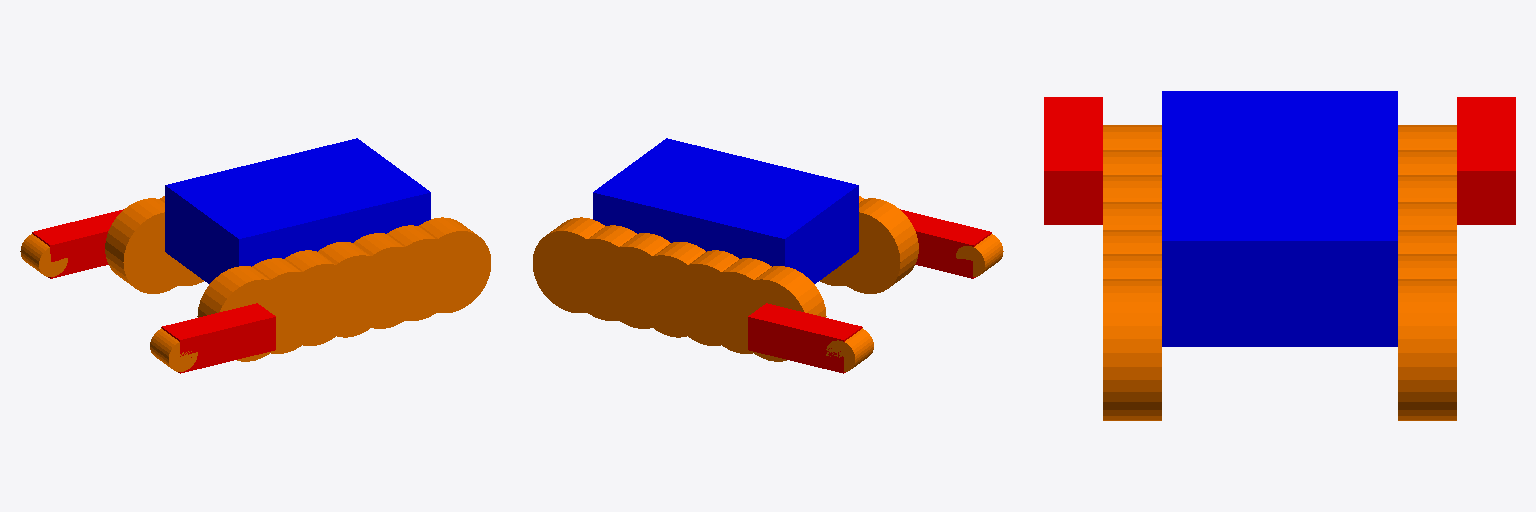
robot.urdf — tracked_flipper:
<?xml version="1.0" ?>
<!-- =================================================================================== -->
<!-- |    This document was autogenerated by xacro from urdf/tracked.xacro               | -->
<!-- |    EDITING THIS FILE BY HAND IS NOT RECOMMENDED                                 | -->
<!-- =================================================================================== -->
<robot name="tracked_flipper" xmlns:xacro="http://www.ros.org/wiki/xacro">
  <!-- <xacro:include filename="$(find pexod_description)/urdf/pexod_control.xacro" /> -->
  <!-- MATERIALS -->
  <material name="Blue">
    <color rgba="0 0 1 1"/>
  </material>
  <material name="Red">
    <color rgba="1 0 0 1"/>
  </material>
  <material name="Green">
    <color rgba="0 1 0 1"/>
  </material>
  <material name="Yellow">
    <color rgba="1 1 0 1"/>
  </material>
  <material name="Orange">
    <color rgba="1 0.5 0 1"/>
  </material>
  <material name="LightGrey">
    <color rgba="0.6 0.6 0.6 1.0"/>
  </material>
  <!-- END OF MATERIALS -->
  <!-- XACRO MACROS FOR VISUALS AND COLLISIONS -->
  <!-- END OF XACRO MACROS -->


  <!-- TORSO -->
  <link name="base_link">
    <visual>
      <origin rpy="0 0 0" xyz="0 0 0"/>
      <geometry>
        <box size="0.3 0.2 0.1"/>
      </geometry>
      <material name="Blue"/>
    </visual>
    <collision>
      <origin rpy="0 0 0" xyz="0 0 0"/>
      <geometry>
        <box size="0.3 0.2 0.1"/>
      </geometry>
    </collision>
    <inertial>
      <!-- CENTER OF MASS -->
      <origin rpy="0 0 0" xyz="0 0 0"/>
      <mass value="5"/>
      <!-- <mass value="1.031"/> -->
      <!-- box inertia: 1/12*m(y^2+z^2), ... -->
      <inertia ixx="0.0173333" ixy="0" ixz="0" iyy="0.02466667" iyz="0" izz="0.04066667"/>
    </inertial>
  </link>


  <!-- LINKS/JOINTS -->

  <!-- LEFT TRACK -->

  <joint name="body_track_left" type="fixed">
    <parent link="base_link"/>
    <child link="track_left"/>
    <origin rpy="0 0 0" xyz="0. -0.125 -0.05"/>
    <dynamics damping="0.0"/>
  </joint>

  <link name="track_left">
    <visual>
      <origin rpy="0 0 0" xyz="0 0 0"/> 
      <geometry>
        <box size="0.31 0.05 0.07"/>
      </geometry>
      <material name="Orange"/>
    </visual>

    <collision>
      <origin rpy="0 0 0" xyz="0 0 0"/> 
      <geometry>
        <box size="0.31 0.05 0.07"/>
      </geometry>
    </collision>

    <inertial>
      <!-- CENTER OF MASS -->
      <origin rpy="0 0 0" xyz="0 0 0"/>
      <mass value="1."/>
      <!-- box inertia: 1/12*m(y^2+z^2), ... -->
      <inertia ixx="0.00061667" ixy="0" ixz="0" iyy="0.0420833" iyz="0" izz="0.00821667"/>
    </inertial>
  </link>


  <joint name="body_track_left_front" type="fixed">
    <parent link="track_left"/>
    <child link="track_left_front"/>
    <origin rpy="0 0 0" xyz="-0.155 0 0"/>
    <dynamics damping="0.0"/>
  </joint>

  <link name="track_left_front">
    <visual>
      <origin rpy="1.5708 0 0" xyz="0 0 0"/> 
      <geometry>
        <cylinder length="0.05" radius="0.033"/>
      </geometry>
      <material name="Orange"/>
    </visual>

    <collision>
      <origin rpy="1.5708 0 0" xyz="0 0 0"/> 
      <geometry>
        <cylinder length="0.05" radius="0.033"/>
      </geometry>
    </collision>

    <inertial>
      <origin rpy="1.5708 0 0" xyz="0.0 0.0 0.0"/>
      <mass value="1."/>
      <inertia ixx="0.000497" ixy="0" ixz="0" iyy="0.000497" iyz="0" izz="0.000578"/>
    </inertial>
  </link>

  <!-- WHEELS -->

  <joint name="body_track_left_wheel_1" type="continuous">
    <parent link="track_left"/>
    <child link="track_left_wheel_1"/>
    <limit effort="30.0" lower="-1.57079632679" upper="1.57079632679" velocity="30.0"/>
    <origin rpy="0 0 0" xyz="-0.155 0 0"/>
    <axis xyz="0 1 0"/>
    <dynamics damping="0.0"/>
  </joint>

  <link name="track_left_wheel_1">
    <visual>
      <origin rpy="1.5708 0 0" xyz="0 0 0"/> 
      <geometry>
        <cylinder length="0.05" radius="0.06"/>
      </geometry>
      <material name="Orange"/>
    </visual>

    <collision>
      <origin rpy="1.5708 0 0" xyz="0 0 0"/> 
      <geometry>
        <cylinder length="0.05" radius="0.06"/>
      </geometry>
    </collision>

    <inertial>
      <origin rpy="1.5708 0 0" xyz="0.0 0.0 0.0"/>
      <mass value="0.1"/>
      <inertia ixx="0.000497" ixy="0" ixz="0" iyy="0.000497" iyz="0" izz="0.000578"/>
    </inertial>
  </link>

  <joint name="body_track_left_wheel_2" type="continuous">
    <parent link="track_left"/>
    <child link="track_left_wheel_2"/>
    <limit effort="30.0" lower="-1.57079632679" upper="1.57079632679" velocity="30.0"/>
    <origin rpy="0 0 0" xyz="-0.105 0 0"/>
    <axis xyz="0 1 0"/>
    <dynamics damping="0.0"/>
  </joint>

  <link name="track_left_wheel_2">
    <visual>
      <origin rpy="1.5708 0 0" xyz="0 0 0"/> 
      <geometry>
        <cylinder length="0.05" radius="0.06"/>
      </geometry>
      <material name="Orange"/>
    </visual>

    <collision>
      <origin rpy="1.5708 0 0" xyz="0 0 0"/> 
      <geometry>
        <cylinder length="0.05" radius="0.06"/>
      </geometry>
    </collision>

    <inertial>
      <origin rpy="1.5708 0 0" xyz="0.0 0.0 0.0"/>
      <mass value="0.1"/>
      <inertia ixx="0.000497" ixy="0" ixz="0" iyy="0.000497" iyz="0" izz="0.000578"/>
    </inertial>
  </link>

  <joint name="body_track_left_wheel_3" type="continuous">
    <parent link="track_left"/>
    <child link="track_left_wheel_3"/>
    <limit effort="30.0" lower="-1.57079632679" upper="1.57079632679" velocity="30.0"/>
    <origin rpy="0 0 0" xyz="-0.055 0 0"/>
    <axis xyz="0 1 0"/>
    <dynamics damping="0.0"/>
  </joint>

  <link name="track_left_wheel_3">
    <visual>
      <origin rpy="1.5708 0 0" xyz="0 0 0"/> 
      <geometry>
        <cylinder length="0.05" radius="0.06"/>
      </geometry>
      <material name="Orange"/>
    </visual>

    <collision>
      <origin rpy="1.5708 0 0" xyz="0 0 0"/> 
      <geometry>
        <cylinder length="0.05" radius="0.06"/>
      </geometry>
    </collision>

    <inertial>
      <origin rpy="1.5708 0 0" xyz="0.0 0.0 0.0"/>
      <mass value="0.1"/>
      <inertia ixx="0.000497" ixy="0" ixz="0" iyy="0.000497" iyz="0" izz="0.000578"/>
    </inertial>
  </link>

  <joint name="body_track_left_wheel_4" type="continuous">
    <parent link="track_left"/>
    <child link="track_left_wheel_4"/>
    <limit effort="30.0" lower="-1.57079632679" upper="1.57079632679" velocity="30.0"/>
    <origin rpy="0 0 0" xyz="-0.0 0 0"/>
    <axis xyz="0 1 0"/>
    <dynamics damping="0.0"/>
  </joint>

  <link name="track_left_wheel_4">
    <visual>
      <origin rpy="1.5708 0 0" xyz="0 0 0"/> 
      <geometry>
        <cylinder length="0.05" radius="0.06"/>
      </geometry>
      <material name="Orange"/>
    </visual>

    <collision>
      <origin rpy="1.5708 0 0" xyz="0 0 0"/> 
      <geometry>
        <cylinder length="0.05" radius="0.06"/>
      </geometry>
    </collision>

    <inertial>
      <origin rpy="1.5708 0 0" xyz="0.0 0.0 0.0"/>
      <mass value="0.1"/>
      <inertia ixx="0.000497" ixy="0" ixz="0" iyy="0.000497" iyz="0" izz="0.000578"/>
    </inertial>
  </link>

  <joint name="body_track_left_wheel_5" type="continuous">
    <parent link="track_left"/>
    <child link="track_left_wheel_5"/>
    <limit effort="30.0" lower="-1.57079632679" upper="1.57079632679" velocity="30.0"/>
    <origin rpy="0 0 0" xyz="0.055 0 0"/>
    <axis xyz="0 1 0"/>
    <dynamics damping="0.0"/>
  </joint>

  <link name="track_left_wheel_5">
    <visual>
      <origin rpy="1.5708 0 0" xyz="0 0 0"/> 
      <geometry>
        <cylinder length="0.05" radius="0.06"/>
      </geometry>
      <material name="Orange"/>
    </visual>

    <collision>
      <origin rpy="1.5708 0 0" xyz="0 0 0"/> 
      <geometry>
        <cylinder length="0.05" radius="0.06"/>
      </geometry>
    </collision>

    <inertial>
      <origin rpy="1.5708 0 0" xyz="0.0 0.0 0.0"/>
      <mass value="0.1"/>
      <inertia ixx="0.000497" ixy="0" ixz="0" iyy="0.000497" iyz="0" izz="0.000578"/>
    </inertial>
  </link>

  <joint name="body_track_left_wheel_6" type="continuous">
    <parent link="track_left"/>
    <child link="track_left_wheel_6"/>
    <limit effort="30.0" lower="-1.57079632679" upper="1.57079632679" velocity="30.0"/>
    <origin rpy="0 0 0" xyz="0.105 0 0"/>
    <axis xyz="0 1 0"/>
    <dynamics damping="0.0"/>
  </joint>

  <link name="track_left_wheel_6">
    <visual>
      <origin rpy="1.5708 0 0" xyz="0 0 0"/> 
      <geometry>
        <cylinder length="0.05" radius="0.06"/>
      </geometry>
      <material name="Orange"/>
    </visual>

    <collision>
      <origin rpy="1.5708 0 0" xyz="0 0 0"/> 
      <geometry>
        <cylinder length="0.05" radius="0.06"/>
      </geometry>
    </collision>

    <inertial>
      <origin rpy="1.5708 0 0" xyz="0.0 0.0 0.0"/>
      <mass value="0.1"/>
      <inertia ixx="0.000497" ixy="0" ixz="0" iyy="0.000497" iyz="0" izz="0.000578"/>
    </inertial>
  </link>

  <joint name="body_track_left_wheel_7" type="continuous">
    <parent link="track_left"/>
    <child link="track_left_wheel_7"/>
    <limit effort="30.0" lower="-1.57079632679" upper="1.57079632679" velocity="30.0"/>
    <origin rpy="0 0 0" xyz="0.155 0 0"/>
    <axis xyz="0 1 0"/>
    <dynamics damping="0.0"/>
  </joint>

  <link name="track_left_wheel_7">
    <visual>
      <origin rpy="1.5708 0 0" xyz="0 0 0"/> 
      <geometry>
        <cylinder length="0.05" radius="0.06"/>
      </geometry>
      <material name="Orange"/>
    </visual>

    <collision>
      <origin rpy="1.5708 0 0" xyz="0 0 0"/> 
      <geometry>
        <cylinder length="0.05" radius="0.06"/>
      </geometry>
    </collision>

    <inertial>
      <origin rpy="1.5708 0 0" xyz="0.0 0.0 0.0"/>
      <mass value="0.1"/>
      <inertia ixx="0.000497" ixy="0" ixz="0" iyy="0.000497" iyz="0" izz="0.000578"/>
    </inertial>
  </link>

  <joint name="body_track_left_flipper" type="revolute">
    <parent link="track_left_front"/>
    <child link="track_left_flipper"/>
    <limit effort="30.0" lower="-1.57079632679" upper="1.57079632679" velocity="7.0"/>
    <origin rpy="0 3.14 0" xyz="0 -0.05 0"/>
    <axis xyz="0 1 0"/>
    <dynamics damping="0.0"/>
  </joint>

  <link name="track_left_flipper">
    <visual>
      <origin rpy="0 0 0" xyz="0.07 0. 0."/> 
      <geometry>
        <box size="0.15 0.05 0.05"/>
      </geometry>
      <material name="Red"/>
    </visual>

    <collision>
      <origin rpy="0 0 0" xyz="0.07 0. 0."/> 
      <geometry>
        <box size="0.15 0.05 0.05"/>
      </geometry>
    </collision>

    <inertial>
      <!-- CENTER OF MASS -->
      <origin rpy="0 0 0" xyz="0.07 0. 0."/> 
      <mass value=".5"/>
      <!-- box inertia: 1/12*m(y^2+z^2), ... -->
      <inertia ixx="0.00020833" ixy="0" ixz="0" iyy="0.001770833" iyz="0" izz="0.001770833"/>
    </inertial>
  </link>


  <joint name="body_track_left_flipper_end" type="fixed">
    <parent link="track_left_flipper"/>
    <child link="track_left_flipper_end"/>
  </joint>

  <link name="track_left_flipper_end">
    <visual>
      <origin rpy="1.5708 0 0" xyz="0.14 0. 0."/> 
      <geometry>
        <cylinder length="0.05" radius="0.023"/>
      </geometry>
      <material name="Orange"/>
    </visual>

    <collision>
      <origin rpy="1.5708 0 0" xyz="0.14 0. 0."/> 
      <geometry>
        <cylinder length="0.05" radius="0.023"/>
      </geometry>
    </collision>

    <inertial>
      <origin rpy="1.5708 0 0" xyz="0.14 0. 0."/> 
      <mass value=".1"/>
      <inertia ixx="0.0000497" ixy="0" ixz="0" iyy="0.0000497" iyz="0" izz="0.0000578"/>
    </inertial>
  </link>

  <joint name="body_track_left_back" type="fixed">
    <parent link="track_left"/>
    <child link="track_left_back"/>
    <origin rpy="0 0 0" xyz="0.155 0 0"/>
    <axis xyz="0 1 0"/>
    <dynamics damping="0.0"/>
  </joint>

  <link name="track_left_back">
    <visual>
      <origin rpy="1.5708 0 0" xyz="0 0 0"/> 
      <geometry>
        <cylinder length="0.05" radius="0.033"/>
      </geometry>
      <material name="Orange"/>
    </visual>

    <collision>
      <origin rpy="1.5708 0 0" xyz="0 0 0"/> 
      <geometry>
        <cylinder length="0.05" radius="0.033"/>
      </geometry>
    </collision>

    <inertial>
      <origin rpy="1.5708 0 0" xyz="0 0 0"/> 
      <mass value="1."/>
      <inertia ixx="0.000497" ixy="0" ixz="0" iyy="0.000497" iyz="0" izz="0.000578"/>
    </inertial>
  </link>

  <!-- RIGHT TRACK -->

  <joint name="body_track_right" type="fixed">
    <parent link="base_link"/>
    <child link="track_right"/>
     <origin rpy="0 0 0" xyz="0. 0.125 -0.05"/>
    <dynamics damping="0.0"/>
  </joint>

  <link name="track_right">
    <visual>
      <origin rpy="0 0 0" xyz="0. 0 0"/> 
      <geometry>
        <box size="0.31 0.05 0.07"/>
      </geometry>
      <material name="Orange"/>
    </visual>

    <collision>
      <origin rpy="0 0 0" xyz="0. 0 0"/> 
      <geometry>
        <box size="0.31 0.05 0.07"/>
      </geometry>
    </collision>

    <inertial>
      <!-- CENTER OF MASS -->
      <origin rpy="0 0 0" xyz="0. 0 0"/> 
      <mass value="1."/>
      <!-- box inertia: 1/12*m(y^2+z^2), ... -->
      <inertia ixx="0.00061667" ixy="0" ixz="0" iyy="0.0420833" iyz="0" izz="0.00821667"/>
    </inertial>
  </link>

  
  <joint name="body_track_right_front" type="fixed">
    <parent link="track_right"/>
    <child link="track_right_front"/>
    <origin rpy="0 0 0" xyz="-0.155 0 0"/>
    <dynamics damping="0.0"/>
  </joint>

  <link name="track_right_front">
    <visual>
      <origin rpy="1.5708 0 0" xyz="0 0 0"/> 
      <geometry>
        <cylinder length="0.05" radius="0.033"/>
      </geometry>
      <material name="Orange"/>
    </visual>

    <collision>
      <origin rpy="1.5708 0 0" xyz="0 0 0"/> 
      <geometry>
        <cylinder length="0.05" radius="0.033"/>
      </geometry>
    </collision>

    <inertial>
      <origin rpy="1.5708 0 0" xyz="0 0 0"/> 
      <mass value="1."/>
      <inertia ixx="0.000497" ixy="0" ixz="0" iyy="0.000497" iyz="0" izz="0.000578"/>
    </inertial>
  </link>

  <joint name="body_track_right_flipper" type="revolute">
    <parent link="track_right_front"/>
    <child link="track_right_flipper"/>
    <limit effort="30.0" lower="-1.57079632679" upper="1.57079632679" velocity="7.0"/>
    <origin rpy="0 3.14 0" xyz="0 0.05 0"/>
    <axis xyz="0 1 0"/>
    <dynamics damping="0.0"/>
  </joint>

  <link name="track_right_flipper">
    <visual>
      <origin rpy="0 0 0" xyz="0.07 0. 0."/> 
      <geometry>
        <box size="0.15 0.05 0.05"/>
      </geometry>
      <material name="Red"/>
    </visual>

    <collision>
      <origin rpy="0 0 0" xyz="0.07 0. 0."/> 
      <geometry>
        <box size="0.15 0.05 0.05"/>
      </geometry>
    </collision>

    <inertial>
      <!-- CENTER OF MASS -->
      <origin rpy="0 0 0" xyz="0.07 0. 0."/> 
      <mass value=".5"/>
      <!-- box inertia: 1/12*m(y^2+z^2), ... -->
      <inertia ixx="0.00020833" ixy="0" ixz="0" iyy="0.001770833" iyz="0" izz="0.001770833"/>
    </inertial>
  </link>

  <joint name="body_track_right_flipper_end" type="fixed">
    <parent link="track_right_flipper"/>
    <child link="track_right_flipper_end"/>
  </joint>

  <link name="track_right_flipper_end">
    <visual>
      <origin rpy="1.5708 0 0" xyz="0.14 0. 0."/> 
      <geometry>
        <cylinder length="0.05" radius="0.023"/>
      </geometry>
      <material name="Orange"/>
    </visual>

    <collision>
      <origin rpy="1.5708 0 0" xyz="0.14 0. 0."/> 
      <geometry>
        <cylinder length="0.05" radius="0.023"/>
      </geometry>
    </collision>

    <inertial>
      <origin rpy="1.5708 0 0" xyz="0.14 0. 0."/> 
      <mass value=".1"/>
      <inertia ixx="0.0000497" ixy="0" ixz="0" iyy="0.0000497" iyz="0" izz="0.0000578"/>
    </inertial>
  </link>


  <joint name="body_track_right_back" type="fixed">
    <parent link="track_right"/>
    <child link="track_right_back"/>
    <origin rpy="0 0 0" xyz="0.155 0 0"/>
    <dynamics damping="0.0"/>
  </joint>

  <link name="track_right_back">
    <visual>
      <origin rpy="1.5708 0 0" xyz="0 0 0"/> 
      <geometry>
        <cylinder length="0.05" radius="0.033"/>
      </geometry>
      <material name="Orange"/>
    </visual>

    <collision>
      <origin rpy="1.5708 0 0" xyz="0 0 0"/> 
      <geometry>
        <cylinder length="0.05" radius="0.033"/>
      </geometry>
    </collision>

    <inertial>
      <origin rpy="1.5708 0 0" xyz="0 0 0"/> 
      <mass value="1."/>
      <inertia ixx="0.000497" ixy="0" ixz="0" iyy="0.000497" iyz="0" izz="0.000578"/>
    </inertial>
  </link>

  <!-- Right Wheels -->

    <joint name="body_track_right_wheel_1" type="continuous">
    <parent link="track_right"/>
    <child link="track_right_wheel_1"/>
    <limit effort="30.0" lower="-1.57079632679" upper="1.57079632679" velocity="30.0"/>
    <origin rpy="0 0 0" xyz="-0.155 0 0"/>
    <axis xyz="0 1 0"/>
    <dynamics damping="0.0"/>
  </joint>

  <link name="track_right_wheel_1">
    <visual>
      <origin rpy="1.5708 0 0" xyz="0 0 0"/> 
      <geometry>
        <cylinder length="0.05" radius="0.06"/>
      </geometry>
      <material name="Orange"/>
    </visual>

    <collision>
      <origin rpy="1.5708 0 0" xyz="0 0 0"/> 
      <geometry>
        <cylinder length="0.05" radius="0.06"/>
      </geometry>
    </collision>

    <inertial>
      <origin rpy="1.5708 0 0" xyz="0.0 0.0 0.0"/>
      <mass value="0.1"/>
      <inertia ixx="0.000497" ixy="0" ixz="0" iyy="0.000497" iyz="0" izz="0.000578"/>
    </inertial>
  </link>

  <joint name="body_track_right_wheel_2" type="continuous">
    <parent link="track_right"/>
    <child link="track_right_wheel_2"/>
    <limit effort="30.0" lower="-1.57079632679" upper="1.57079632679" velocity="30.0"/>
    <origin rpy="0 0 0" xyz="-0.105 0 0"/>
    <axis xyz="0 1 0"/>
    <dynamics damping="0.0"/>
  </joint>

  <link name="track_right_wheel_2">
    <visual>
      <origin rpy="1.5708 0 0" xyz="0 0 0"/> 
      <geometry>
        <cylinder length="0.05" radius="0.06"/>
      </geometry>
      <material name="Orange"/>
    </visual>

    <collision>
      <origin rpy="1.5708 0 0" xyz="0 0 0"/> 
      <geometry>
        <cylinder length="0.05" radius="0.06"/>
      </geometry>
    </collision>

    <inertial>
      <origin rpy="1.5708 0 0" xyz="0.0 0.0 0.0"/>
      <mass value="0.1"/>
      <inertia ixx="0.000497" ixy="0" ixz="0" iyy="0.000497" iyz="0" izz="0.000578"/>
    </inertial>
  </link>

  <joint name="body_track_right_wheel_3" type="continuous">
    <parent link="track_right"/>
    <child link="track_right_wheel_3"/>
    <limit effort="30.0" lower="-1.57079632679" upper="1.57079632679" velocity="30.0"/>
    <origin rpy="0 0 0" xyz="-0.055 0 0"/>
    <axis xyz="0 1 0"/>
    <dynamics damping="0.0"/>
  </joint>

  <link name="track_right_wheel_3">
    <visual>
      <origin rpy="1.5708 0 0" xyz="0 0 0"/> 
      <geometry>
        <cylinder length="0.05" radius="0.06"/>
      </geometry>
      <material name="Orange"/>
    </visual>

    <collision>
      <origin rpy="1.5708 0 0" xyz="0 0 0"/> 
      <geometry>
        <cylinder length="0.05" radius="0.06"/>
      </geometry>
    </collision>

    <inertial>
      <origin rpy="1.5708 0 0" xyz="0.0 0.0 0.0"/>
      <mass value="0.1"/>
      <inertia ixx="0.000497" ixy="0" ixz="0" iyy="0.000497" iyz="0" izz="0.000578"/>
    </inertial>
  </link>

  <joint name="body_track_right_wheel_4" type="continuous">
    <parent link="track_right"/>
    <child link="track_right_wheel_4"/>
    <limit effort="30.0" lower="-1.57079632679" upper="1.57079632679" velocity="30.0"/>
    <origin rpy="0 0 0" xyz="-0.0 0 0"/>
    <axis xyz="0 1 0"/>
    <dynamics damping="0.0"/>
  </joint>

  <link name="track_right_wheel_4">
    <visual>
      <origin rpy="1.5708 0 0" xyz="0 0 0"/> 
      <geometry>
        <cylinder length="0.05" radius="0.06"/>
      </geometry>
      <material name="Orange"/>
    </visual>

    <collision>
      <origin rpy="1.5708 0 0" xyz="0 0 0"/> 
      <geometry>
        <cylinder length="0.05" radius="0.06"/>
      </geometry>
    </collision>

    <inertial>
      <origin rpy="1.5708 0 0" xyz="0.0 0.0 0.0"/>
      <mass value="0.1"/>
      <inertia ixx="0.000497" ixy="0" ixz="0" iyy="0.000497" iyz="0" izz="0.000578"/>
    </inertial>
  </link>

  <joint name="body_track_right_wheel_5" type="continuous">
    <parent link="track_right"/>
    <child link="track_right_wheel_5"/>
    <limit effort="30.0" lower="-1.57079632679" upper="1.57079632679" velocity="30.0"/>
    <origin rpy="0 0 0" xyz="0.055 0 0"/>
    <axis xyz="0 1 0"/>
    <dynamics damping="0.0"/>
  </joint>

  <link name="track_right_wheel_5">
    <visual>
      <origin rpy="1.5708 0 0" xyz="0 0 0"/> 
      <geometry>
        <cylinder length="0.05" radius="0.06"/>
      </geometry>
      <material name="Orange"/>
    </visual>

    <collision>
      <origin rpy="1.5708 0 0" xyz="0 0 0"/> 
      <geometry>
        <cylinder length="0.05" radius="0.06"/>
      </geometry>
    </collision>

    <inertial>
      <origin rpy="1.5708 0 0" xyz="0.0 0.0 0.0"/>
      <mass value="0.1"/>
      <inertia ixx="0.000497" ixy="0" ixz="0" iyy="0.000497" iyz="0" izz="0.000578"/>
    </inertial>
  </link>

  <joint name="body_track_right_wheel_6" type="continuous">
    <parent link="track_right"/>
    <child link="track_right_wheel_6"/>
    <limit effort="30.0" lower="-1.57079632679" upper="1.57079632679" velocity="30.0"/>
    <origin rpy="0 0 0" xyz="0.105 0 0"/>
    <axis xyz="0 1 0"/>
    <dynamics damping="0.0"/>
  </joint>

  <link name="track_right_wheel_6">
    <visual>
      <origin rpy="1.5708 0 0" xyz="0 0 0"/> 
      <geometry>
        <cylinder length="0.05" radius="0.06"/>
      </geometry>
      <material name="Orange"/>
    </visual>

    <collision>
      <origin rpy="1.5708 0 0" xyz="0 0 0"/> 
      <geometry>
        <cylinder length="0.05" radius="0.06"/>
      </geometry>
    </collision>

    <inertial>
      <origin rpy="1.5708 0 0" xyz="0.0 0.0 0.0"/>
      <mass value="0.1"/>
      <inertia ixx="0.000497" ixy="0" ixz="0" iyy="0.000497" iyz="0" izz="0.000578"/>
    </inertial>
  </link>

  <joint name="body_track_right_wheel_7" type="continuous">
    <parent link="track_right"/>
    <child link="track_right_wheel_7"/>
    <limit effort="30.0" lower="-1.57079632679" upper="1.57079632679" velocity="30.0"/>
    <origin rpy="0 0 0" xyz="0.155 0 0"/>
    <axis xyz="0 1 0"/>
    <dynamics damping="0.0"/>
  </joint>

  <link name="track_right_wheel_7">
    <visual>
      <origin rpy="1.5708 0 0" xyz="0 0 0"/> 
      <geometry>
        <cylinder length="0.05" radius="0.06"/>
      </geometry>
      <material name="Orange"/>
    </visual>

    <collision>
      <origin rpy="1.5708 0 0" xyz="0 0 0"/> 
      <geometry>
        <cylinder length="0.05" radius="0.06"/>
      </geometry>
    </collision>

    <inertial>
      <origin rpy="1.5708 0 0" xyz="0.0 0.0 0.0"/>
      <mass value="0.1"/>
      <inertia ixx="0.000497" ixy="0" ixz="0" iyy="0.000497" iyz="0" izz="0.000578"/>
    </inertial>
  </link>

 
</robot>

--- What the picture shows (computed from the rendered views, not written in the file) ---
The picture shows the robot from 3 angles, left to right: view 1: azimuth 30°, elevation 25°; view 2: azimuth 150°, elevation 25°; view 3: azimuth 270°, elevation 25°; orthographic projection.
Model tracked_flipper with 25 links and 24 joints (2 revolute, 14 continuous, 8 fixed), rooted at base_link, posed every joint at zero.
Links seen in each view (by area): view 1: base_link, track_left_flipper, track_right_wheel_1, track_left, track_left_wheel_6, track_left_wheel_7, track_right_flipper, track_left_wheel_1, track_left_wheel_3, track_left_wheel_4, track_left_wheel_5, track_left_wheel_2 (+4 smaller); view 2: base_link, track_right_flipper, track_right, track_left_wheel_1, track_left_flipper, track_right_wheel_5, track_right_wheel_7, track_right_wheel_1, track_right_wheel_6, track_right_wheel_4, track_right_wheel_2, track_right_wheel_3 (+4 smaller); view 3: base_link, track_left_wheel_7, track_right_wheel_7, track_left_flipper, track_right_flipper, track_left_wheel_4, track_right_wheel_4, track_left_wheel_3, track_right_wheel_3, track_left_wheel_1, track_left_wheel_2, track_left_wheel_6 (+5 smaller).
Link boxes in pixels (<box>): base_link: <box>165,138,430,283</box>; track_left_flipper: <box>161,303,275,373</box>; track_right_wheel_1: <box>105,198,190,293</box>; track_left: <box>273,273,452,338</box>; track_left_wheel_6: <box>383,225,457,320</box>; track_left_wheel_7: <box>416,217,490,312</box>; track_right_flipper: <box>32,209,123,278</box>; track_left_wheel_1: <box>197,266,292,361</box>; track_left_wheel_3: <box>280,250,356,345</box>; track_left_wheel_4: <box>318,242,391,337</box>; track_left_wheel_5: <box>351,233,425,328</box>; track_left_wheel_2: <box>252,258,324,353</box>; base_link: <box>593,138,858,283</box>; track_right_flipper: <box>748,303,862,373</box>; track_right: <box>571,249,769,316</box>; track_left_wheel_1: <box>833,198,918,293</box>; track_left_flipper: <box>900,209,991,278</box>; track_right_wheel_5: <box>597,233,672,328</box>; track_right_wheel_7: <box>533,217,608,312</box>; track_right_wheel_1: <box>732,266,826,361</box>; track_right_wheel_6: <box>565,225,636,320</box>; track_right_wheel_4: <box>632,242,708,337</box>; track_right_wheel_2: <box>699,258,771,353</box>; track_right_wheel_3: <box>667,250,743,345</box>; base_link: <box>1162,91,1397,346</box>; track_left_wheel_7: <box>1103,279,1161,420</box>; track_right_wheel_7: <box>1398,279,1456,420</box>; track_left_flipper: <box>1044,97,1102,224</box>; track_right_flipper: <box>1457,97,1515,224</box>; track_left_wheel_4: <box>1103,202,1161,229</box>; track_right_wheel_4: <box>1398,202,1456,229</box>; track_left_wheel_3: <box>1103,175,1161,201</box>; track_right_wheel_3: <box>1398,175,1456,201</box>; track_left_wheel_1: <box>1103,125,1161,149</box>; track_left_wheel_2: <box>1103,150,1161,174</box>; track_left_wheel_6: <box>1103,254,1161,278</box>.
Size in the robot's own frame: 0.533 by 0.4 by 0.16 metres.
Geometry: primitives only (box / cylinder / sphere), no mesh files.
